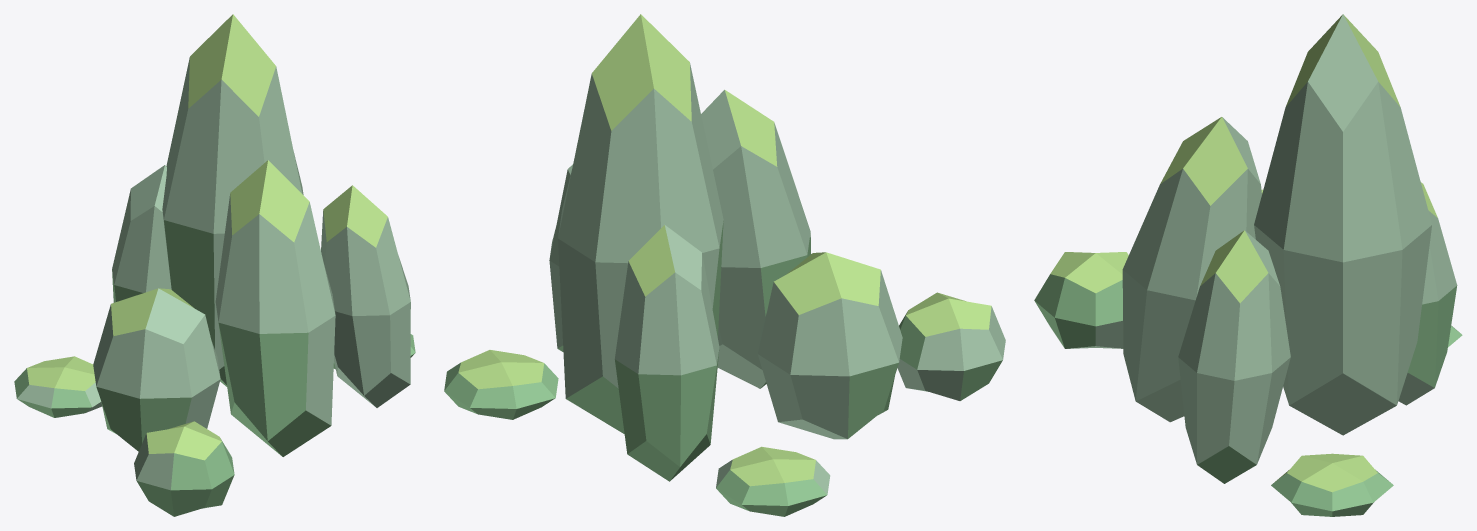
The model's file is piedra 4 white.fbx.
3 views of the same model, side by side, from view 1: azimuth 30°, elevation 25°; view 2: azimuth 150°, elevation 25°; view 3: azimuth 270°, elevation 25° (orthographic). The views are drawn at different scales.
Parts seen in each view (by area): view 1: rock_01; view 2: rock_01; view 3: rock_01.
Part boxes in pixels (x1=…): rock_01: x1=14, y1=14, x2=415, y2=516; rock_01: x1=444, y1=14, x2=1005, y2=516; rock_01: x1=1034, y1=14, x2=1462, y2=516.
Size of the model in its own units: 331 by 314 by 288.
